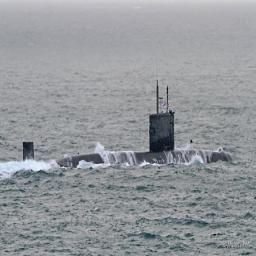submarine: (24, 78, 234, 173)
